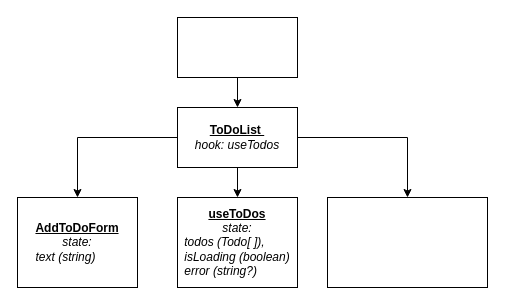
The diagram is 505 pixels wide and 305 high, and some of its shapes have lost their labels. Here are the shapes that lost their labels. From the top down, the centre of each, then its label:
At pixel 237 47: "App".
At pixel 407 242: "ToDoItem props : todo { id (number), todo(string), completed (boolean)}".
